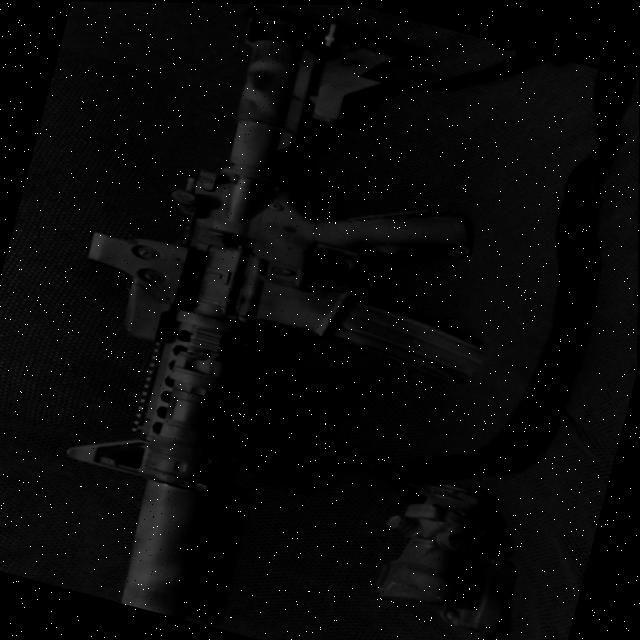firearm: (0, 0, 560, 640)
